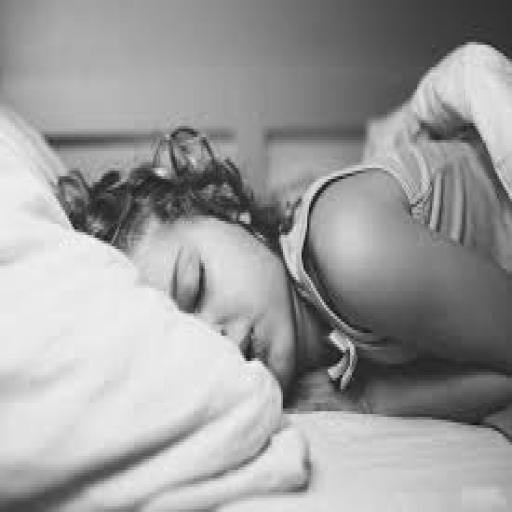sleeping: (52, 36, 510, 428)
